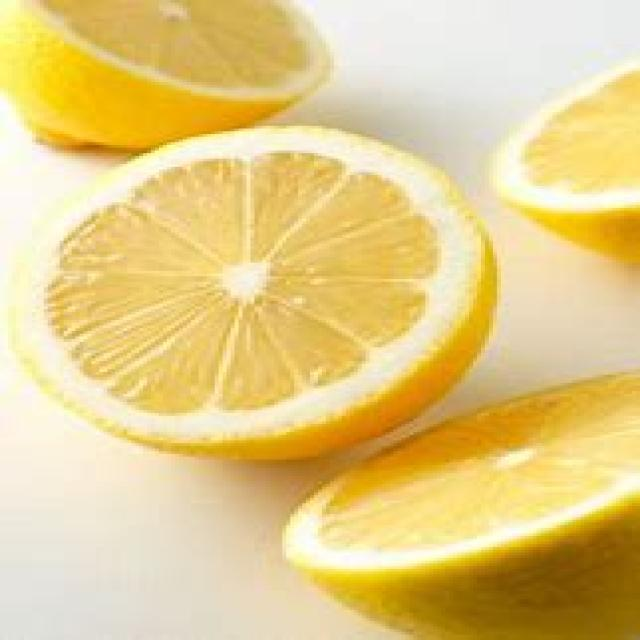lemon: (12, 114, 504, 458), (0, 0, 332, 162)
